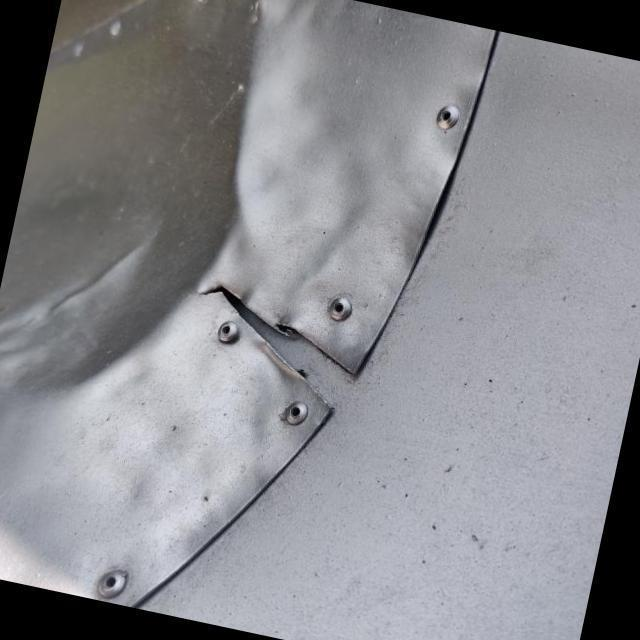dent: (0, 0, 255, 388)
